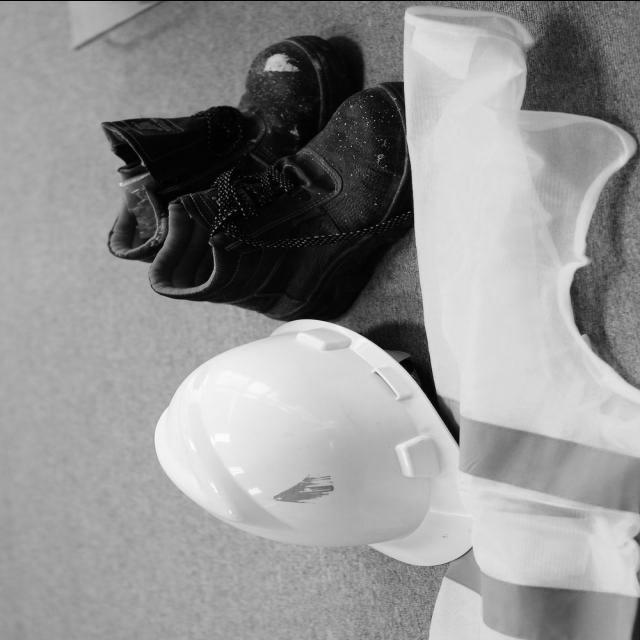construction helmet: (156, 317, 476, 566)
